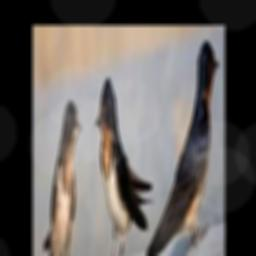Swallow: (145, 40, 218, 256), (95, 78, 152, 256), (43, 102, 81, 256)
